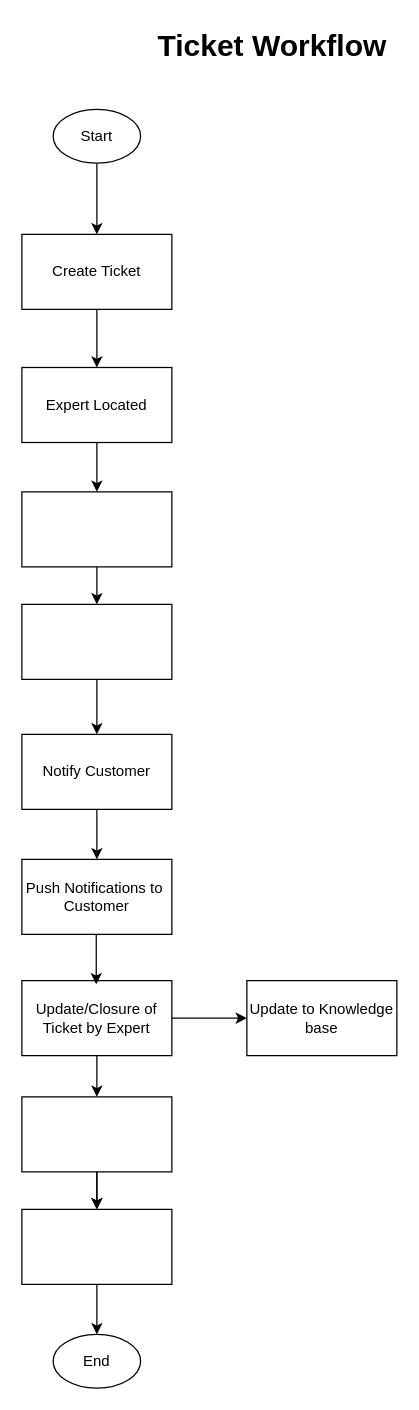
Image size: 419x1410. Some labels were removed from this diagram. Here are the shapes that lost their labels. From the top down, the centre of each, then its label:
At point (96, 529): "Ticket Assigned".
At point (96, 641): "Push Ticket Info, Notify Expert".
At point (96, 1134): "Closure Survey to Customer".
At point (96, 1246): "Customer feedback through Survey".
